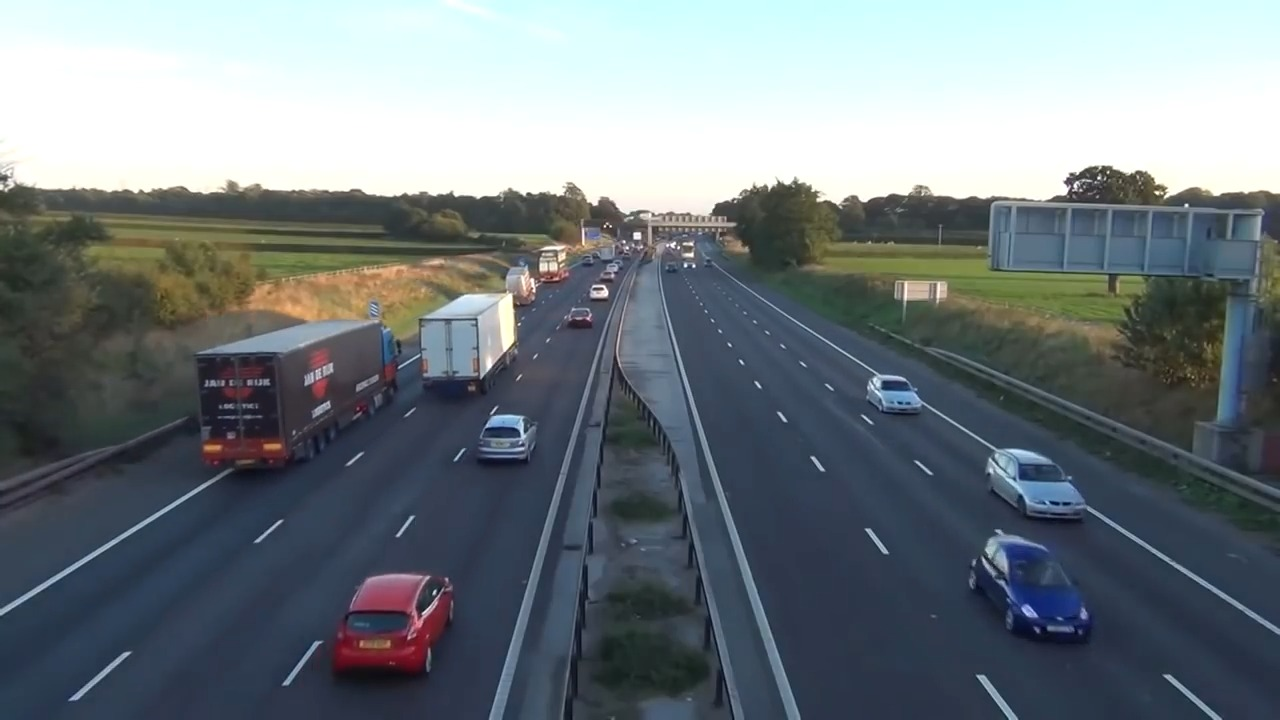truck: (187, 310, 396, 476), (412, 285, 521, 392)
